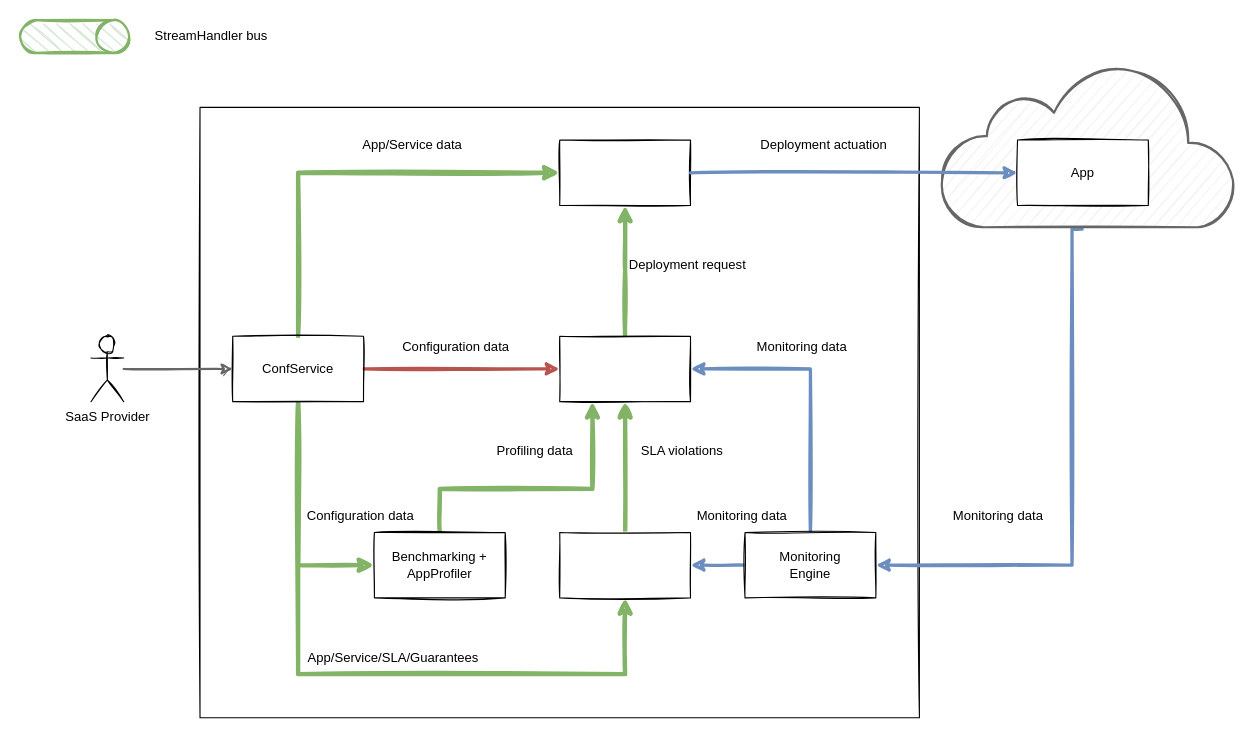
Image size: 1255x737. Some labels were removed from this diagram. Here are the shapes that lost their labels. From the top down, the centre of each, then its label:
At point 625,172: "Orchestrator".
At point 625,368: "DSS".
At point 625,564: "SLA Manager".
